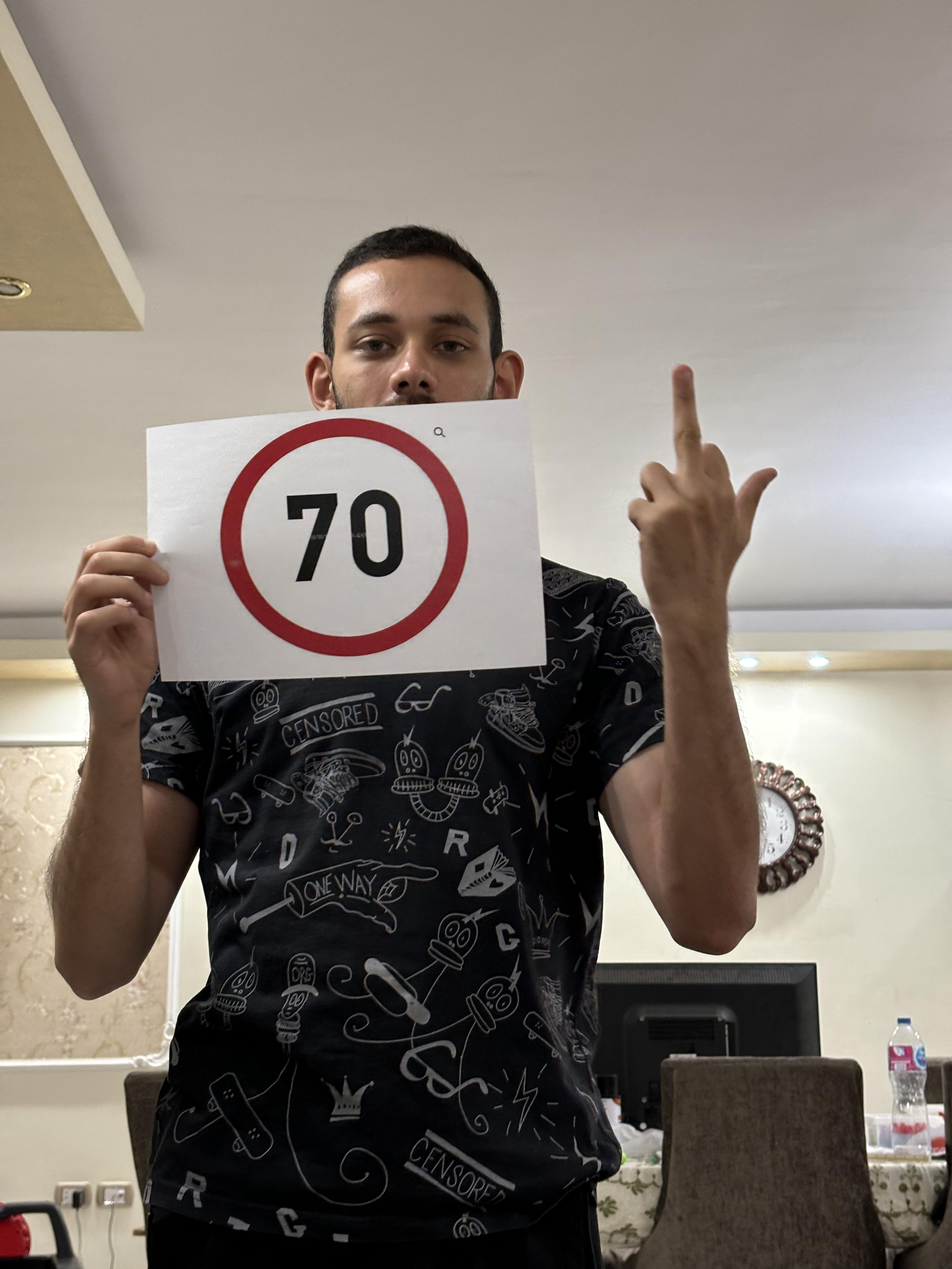70-Speed: (205, 410, 488, 656)
